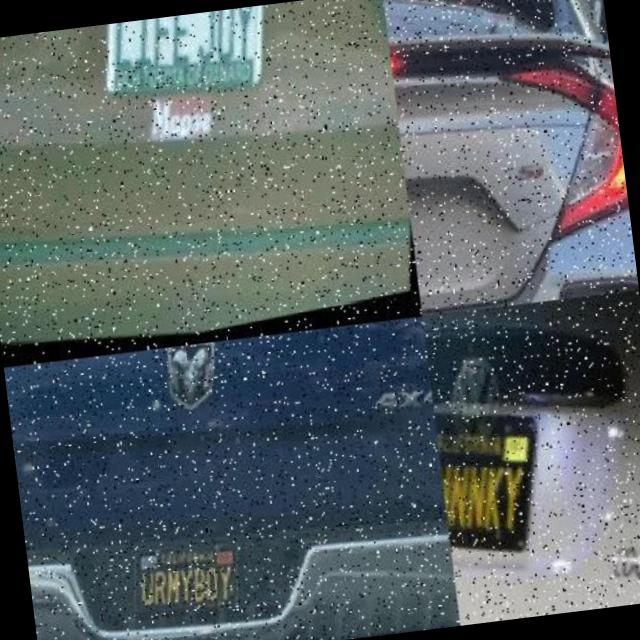LicensePlate: (94, 3, 283, 118), (432, 392, 544, 574), (132, 543, 239, 624)
